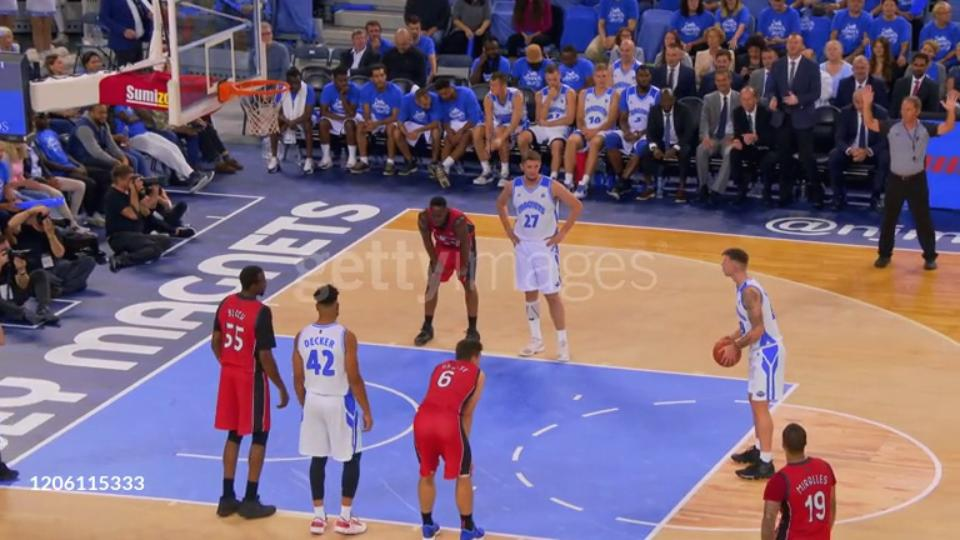hoop: (212, 76, 292, 106)
